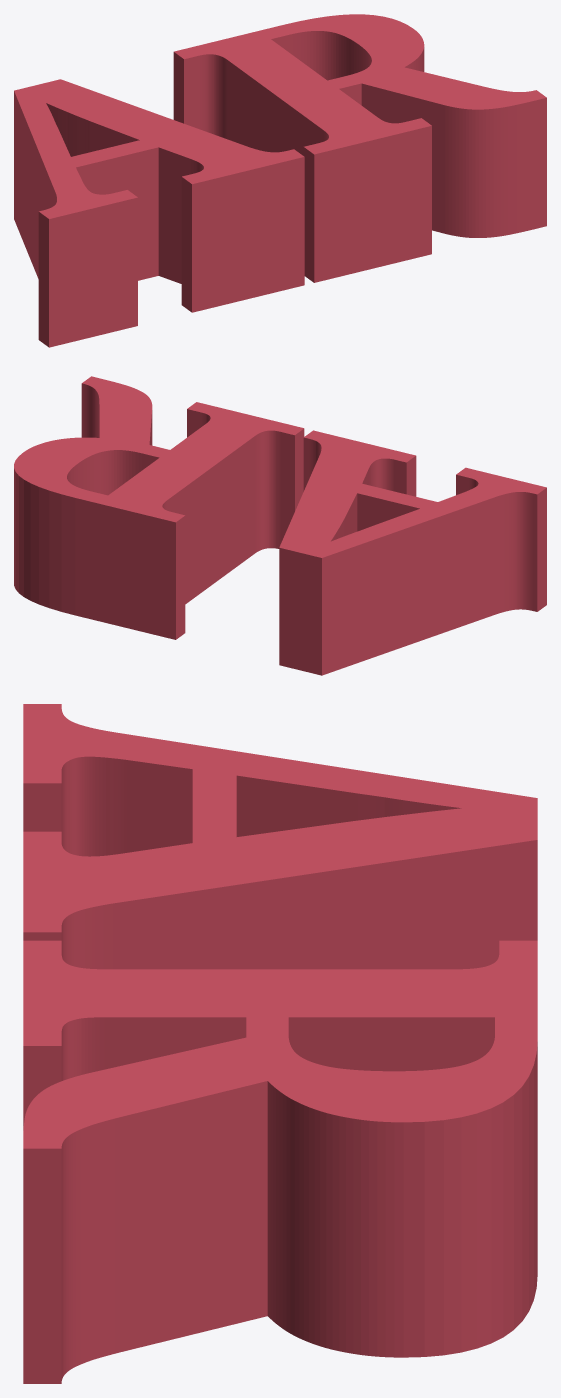
The picture shows the model from 3 angles, top to bottom: view 1: azimuth 30°, elevation 25°; view 2: azimuth 150°, elevation 25°; view 3: azimuth 270°, elevation 25°; orthographic projection. The views are drawn at different scales.
Visible parts, largest first — view 1: Mesh_Mesh_head_geo.001_lambert2SG.001; view 2: Mesh_Mesh_head_geo.001_lambert2SG.001; view 3: Mesh_Mesh_head_geo.001_lambert2SG.001.
Boxes of the visible parts, x1,y1,x2,y2 form: Mesh_Mesh_head_geo.001_lambert2SG.001: (14,14,546,347); Mesh_Mesh_head_geo.001_lambert2SG.001: (14,376,546,675); Mesh_Mesh_head_geo.001_lambert2SG.001: (23,704,537,1383).
Bounding box in the file's own units: 40.54 × 10 × 19.82.
